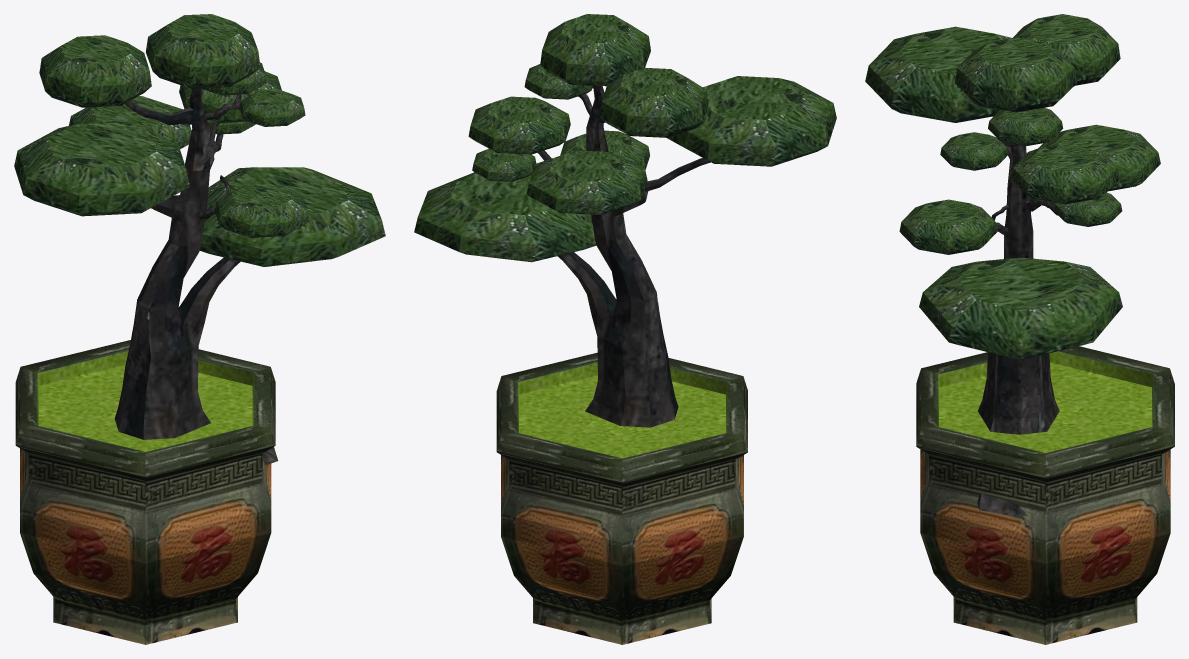
Rendered from cay-tung-1.glb.
3 renders of one model, left to right at view 1: azimuth 30°, elevation 25°; view 2: azimuth 150°, elevation 25°; view 3: azimuth 270°, elevation 25°, orthographic. The views are drawn at different scales.
Parts seen in each view (by area): view 1: Tung_1; view 2: Tung_1; view 3: Tung_1.
Boxes of the visible parts, box(x1,y1,x2,y2) form: Tung_1: box(14, 14, 385, 644); Tung_1: box(414, 14, 836, 644); Tung_1: box(865, 14, 1174, 644).
Size of the model in its own units: 0.5505 by 0.782 by 0.3862.
1 material, 1 textured.
